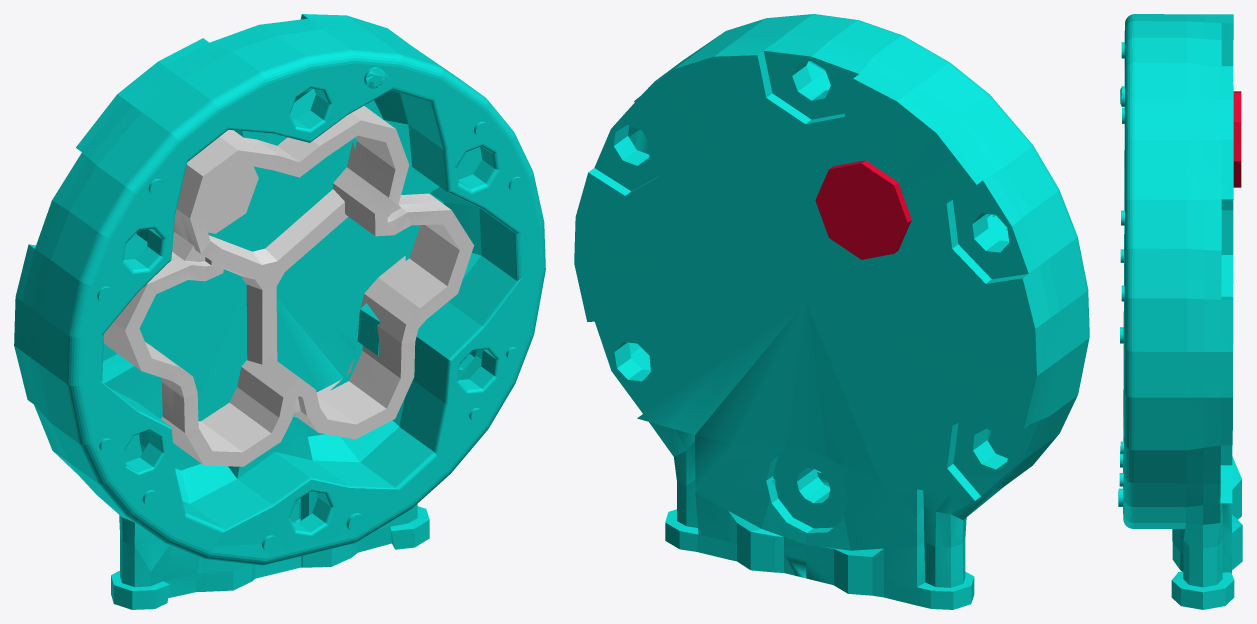
The model's file is input.fbx.
The picture shows the model from 3 angles, left to right: view 1: azimuth 30°, elevation 25°; view 2: azimuth 150°, elevation 25°; view 3: azimuth 270°, elevation 25°; orthographic projection. The views are drawn at different scales.
Parts seen in each view (by area): view 1: main body, front; view 2: main body, back; view 3: main body, back.
Part boxes in pixels (x1,y1,x2,y2): main body: [14, 14, 545, 609]; front: [103, 106, 474, 466]; main body: [574, 14, 1089, 609]; back: [815, 160, 911, 259]; main body: [1118, 14, 1242, 609]; back: [1233, 91, 1241, 187].
Bounding box in the file's own units: 67.14 × 72.29 × 16.2.
